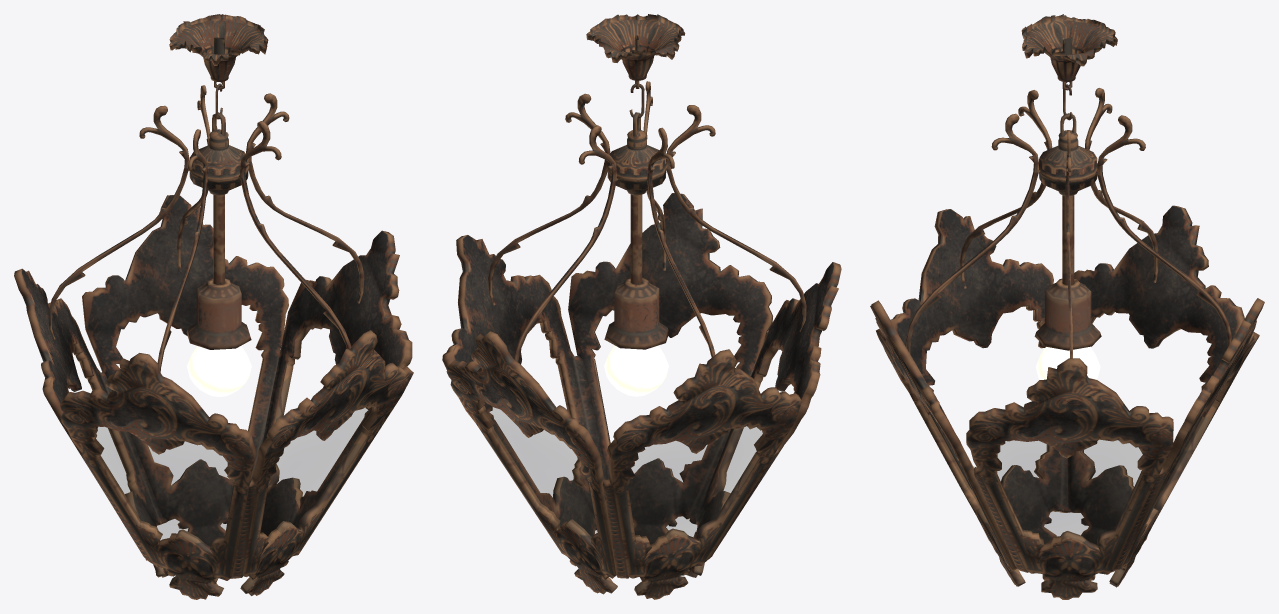
The model's file is lantern_chandelier_01_4k.gltf.
3 views of the same model, side by side, from view 1: azimuth 30°, elevation 25°; view 2: azimuth 150°, elevation 25°; view 3: azimuth 270°, elevation 25° (orthographic).
Visible parts, largest first — view 1: lantern_chandelier_01; view 2: lantern_chandelier_01; view 3: lantern_chandelier_01.
Part boxes in pixels (x1,y1,x2,y2): lantern_chandelier_01: [14, 14, 413, 599]; lantern_chandelier_01: [442, 14, 841, 599]; lantern_chandelier_01: [870, 14, 1264, 599].
Bounding box in the file's own units: 0.5792 × 0.8776 × 0.5746.
Materials: 3 (2 with a texture image).
